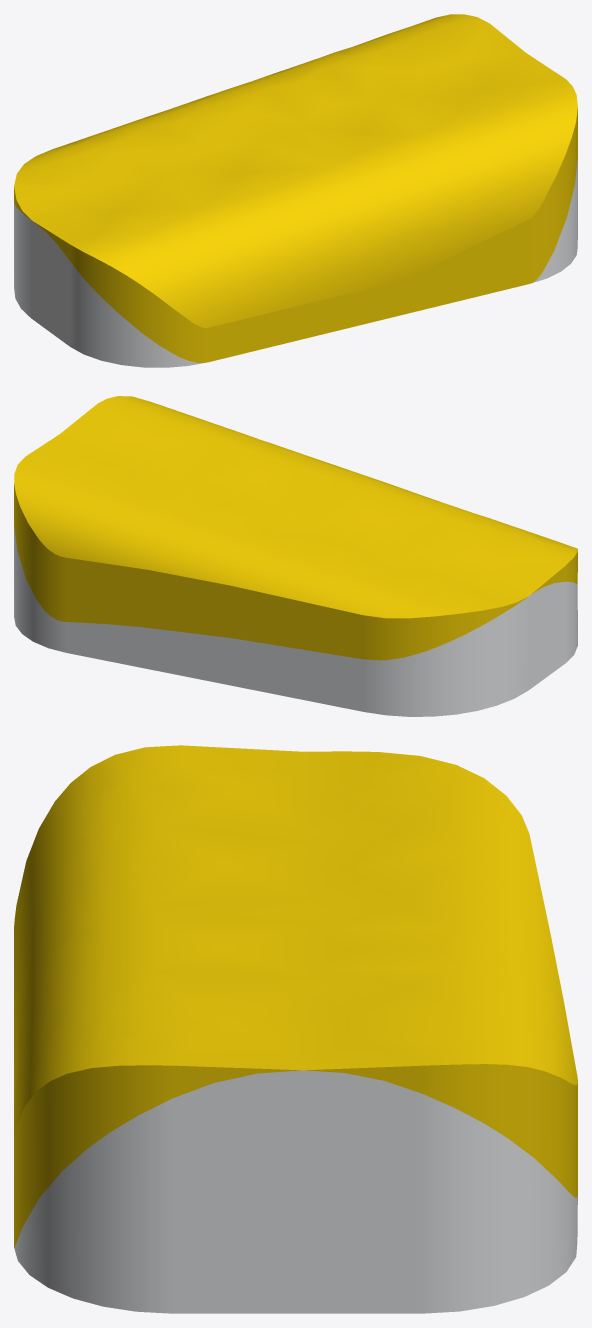
3 views of the same model, one above another, from view 1: azimuth 30°, elevation 25°; view 2: azimuth 150°, elevation 25°; view 3: azimuth 270°, elevation 25° (orthographic). The views are drawn at different scales.
Parts seen in each view (by area): view 1: =>[0:1:1:4], =>[0:1:1:2]; view 2: =>[0:1:1:4], =>[0:1:1:2]; view 3: =>[0:1:1:4], =>[0:1:1:2].
Part boxes in pixels (x1,y1,x2,y2): =>[0:1:1:4]: [14, 14, 577, 362]; =>[0:1:1:2]: [14, 158, 577, 367]; =>[0:1:1:4]: [14, 396, 577, 660]; =>[0:1:1:2]: [14, 526, 577, 716]; =>[0:1:1:4]: [14, 745, 577, 1247]; =>[0:1:1:2]: [14, 1070, 577, 1313].
Bounding box in the file's own units: 38.92 × 11.3 × 23.28.
